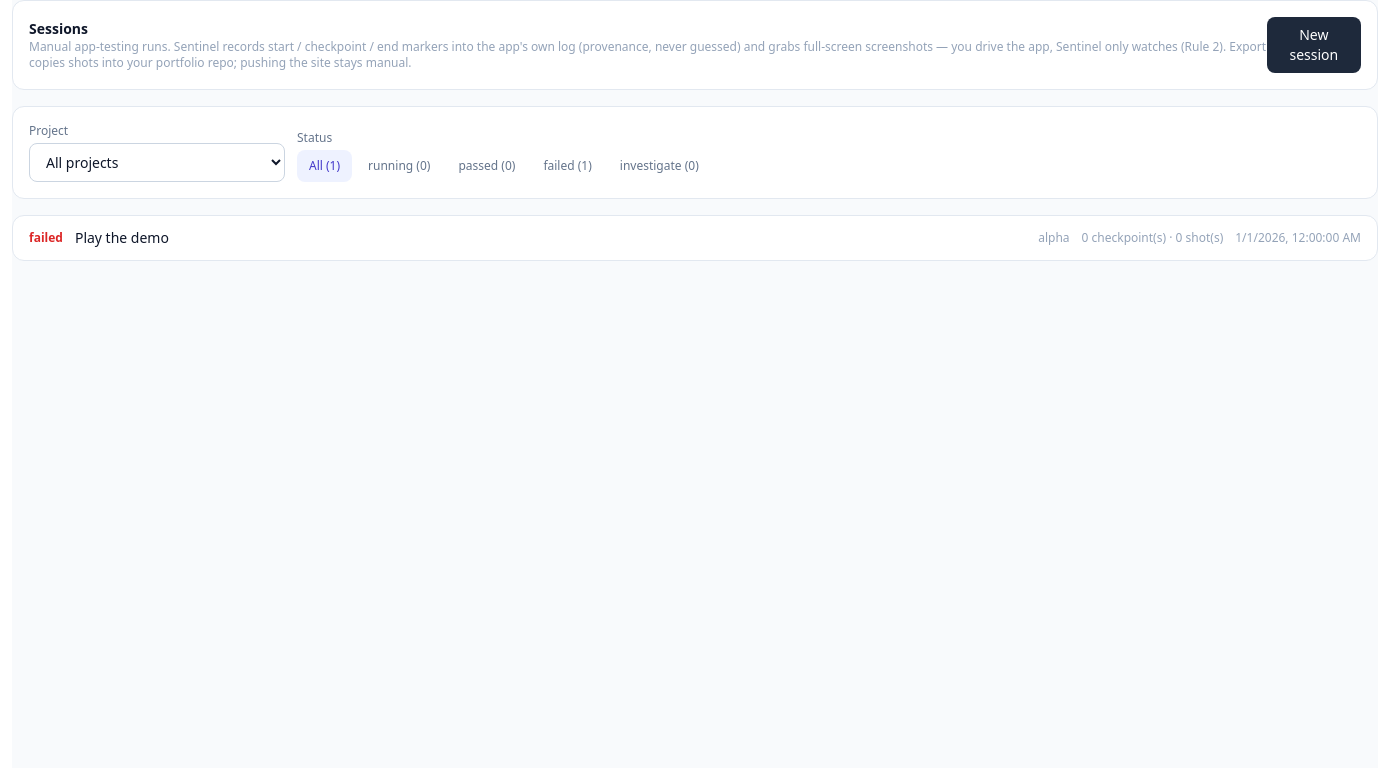
Scenario: Sessions › triages a failed session and renders the evidence card
The width and height of the screenshot is (1390, 768).
Click the text "Play the demo": (122, 238) [75, 228, 169, 247]
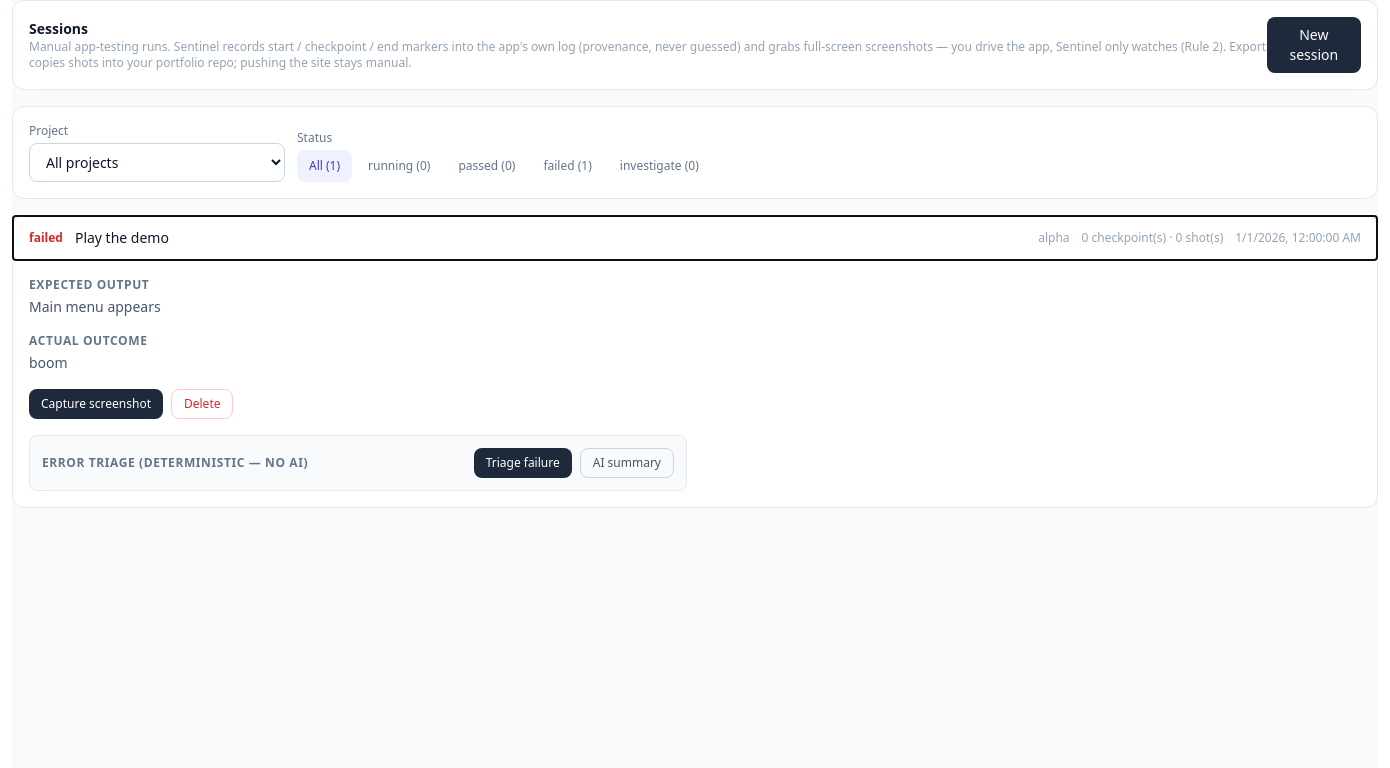
Click the button "Triage failure": (523, 463) [474, 448, 572, 478]
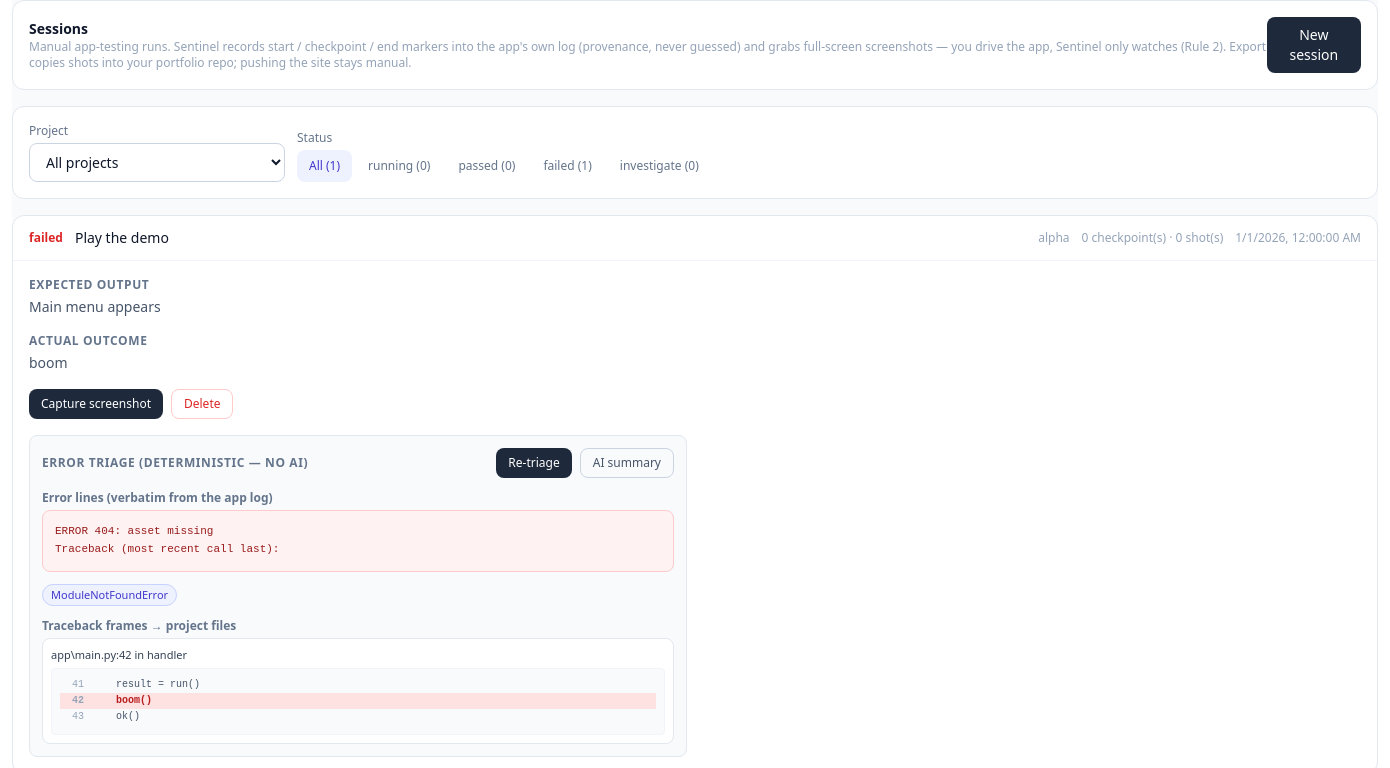
Expected: the heading "Error lines (verbatim from the app log)" is shown, [42, 489, 273, 506]
Expected: the text "ERROR 404: asset missing" is shown, [55, 525, 213, 537]
Expected: the text "app\\main.py:42 in handler" is shown, [51, 647, 187, 662]
